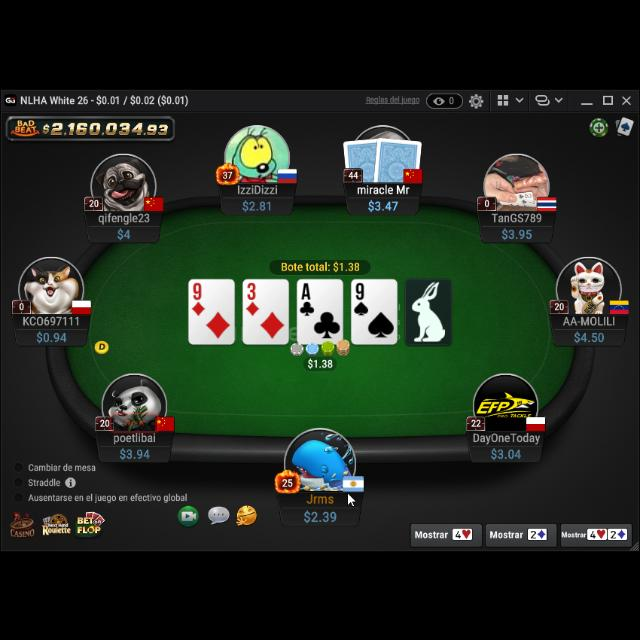3d: (246, 282, 260, 316)
9d: (190, 281, 206, 317)
9s: (352, 280, 370, 316)
Ac: (299, 280, 317, 316)
bet_text: (306, 355, 336, 369)
card_back: (373, 134, 423, 182), (342, 136, 386, 180)
dealer: (92, 337, 110, 355)
pot_text: (280, 259, 362, 271)
stack_text: (302, 506, 338, 522), (500, 224, 534, 240), (34, 328, 68, 342), (572, 328, 606, 342), (118, 445, 152, 459), (366, 197, 399, 211), (490, 444, 522, 458), (241, 198, 273, 210), (115, 224, 133, 240)
